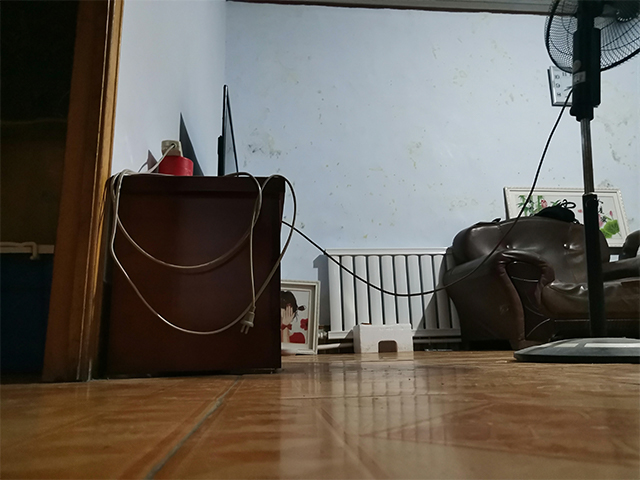cabinet: (98, 167, 290, 381)
sofa: (441, 207, 640, 354)
